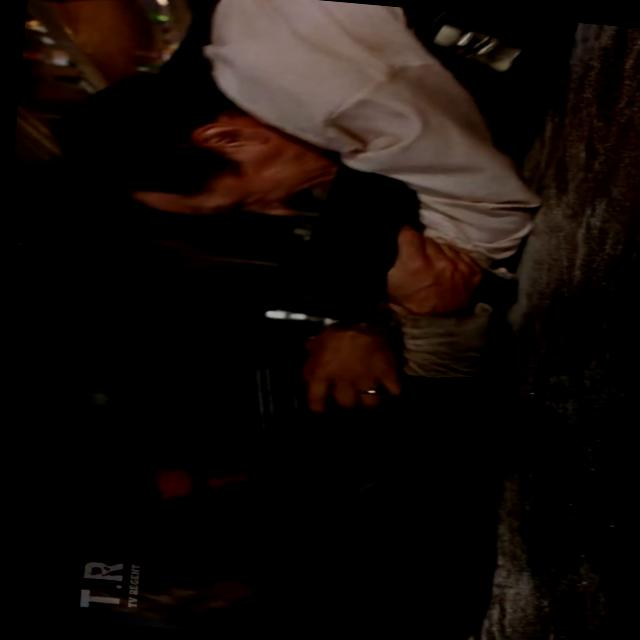handgun: (250, 141, 470, 330), (200, 292, 386, 464)
